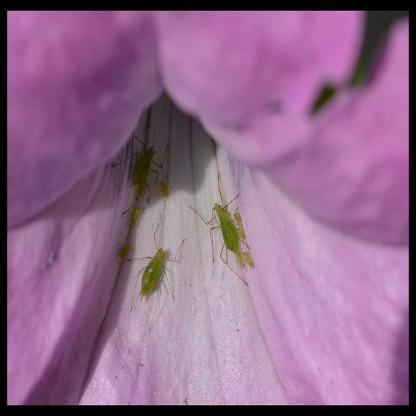aphid: (203, 183, 246, 273), (132, 224, 177, 305), (123, 129, 170, 196), (111, 226, 140, 268), (118, 192, 147, 229)
